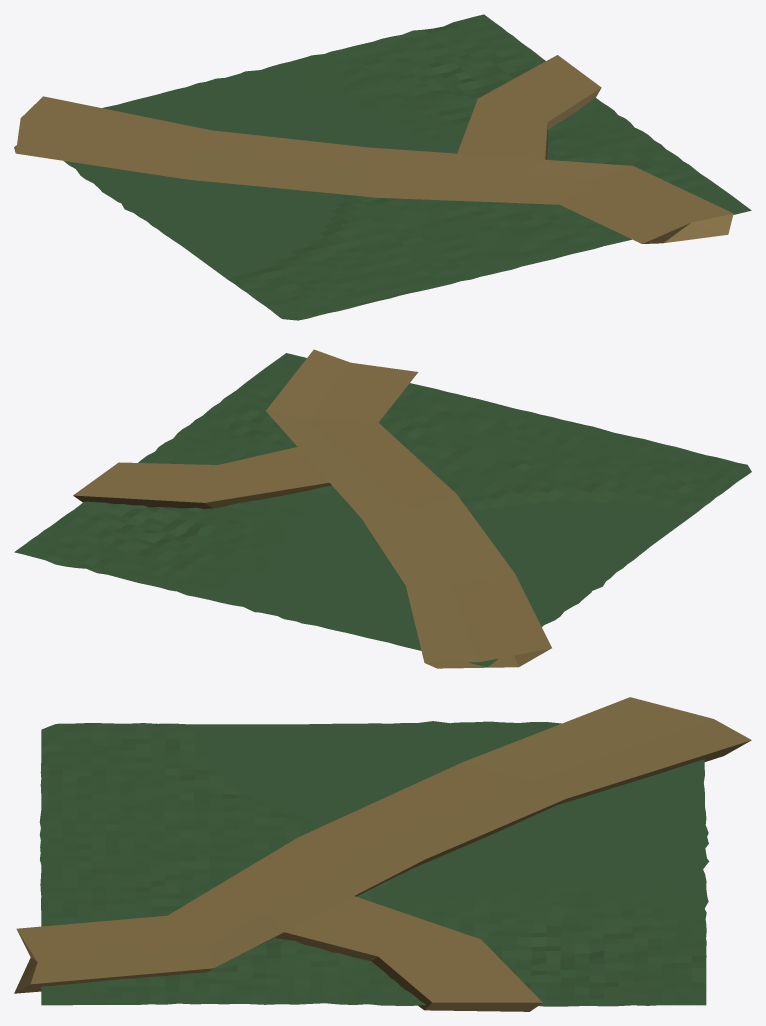
The model's file is athili_copse_section17.glb.
3 renders of one model, top to bottom at view 1: azimuth 30°, elevation 25°; view 2: azimuth 150°, elevation 25°; view 3: azimuth 270°, elevation 25°, orthographic. The views are drawn at different scales.
Visible parts, largest first — view 1: Grass, Road; view 2: Grass, Road; view 3: Grass, Road.
Part boxes in pixels (x1,y1,x2,y2): Grass: (64,14,751,320); Road: (14,55,733,243); Grass: (14,353,751,666); Road: (73,349,551,668); Grass: (39,721,709,1006); Road: (14,697,751,1011).
Size of the model in its own units: 64.59 by 1.86 by 65.68.
